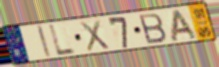7: (107, 16, 129, 50)
A: (171, 8, 199, 43)
B: (137, 12, 169, 45)
I: (36, 24, 53, 59)
L: (48, 23, 78, 57)
X: (78, 18, 112, 53)
